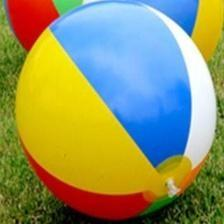Sports-Ball: (16, 4, 217, 221)
